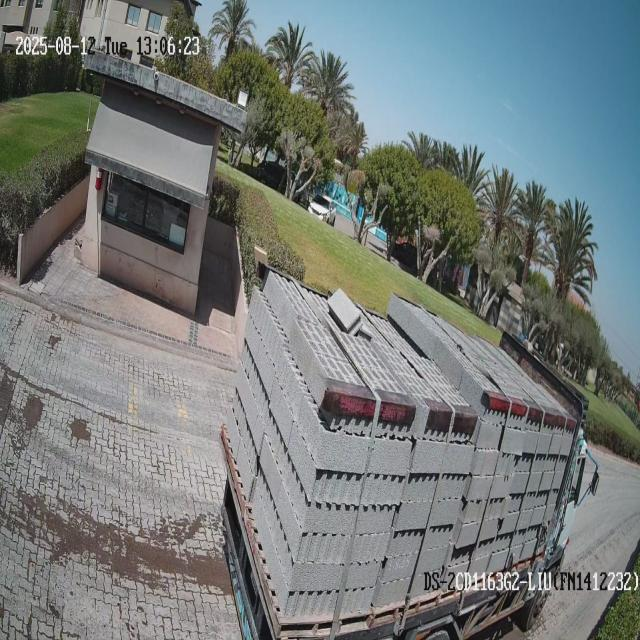bricks: (224, 261, 576, 615)
